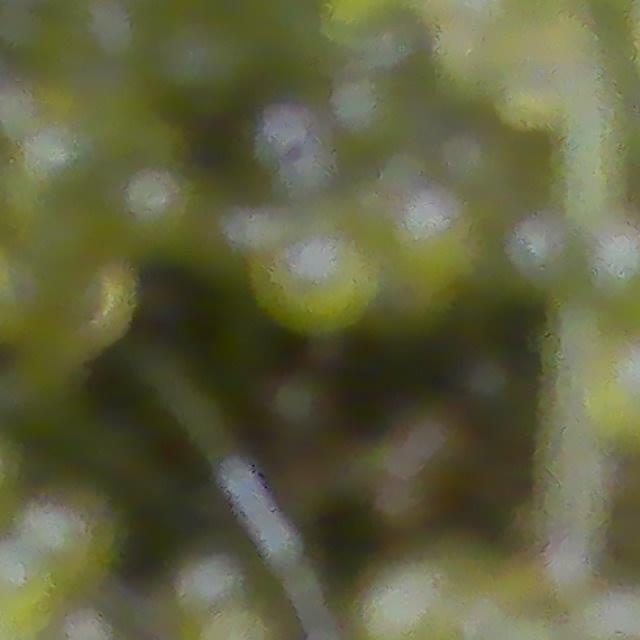SeaGrape: (245, 217, 380, 331), (336, 552, 465, 640), (383, 191, 473, 297)
